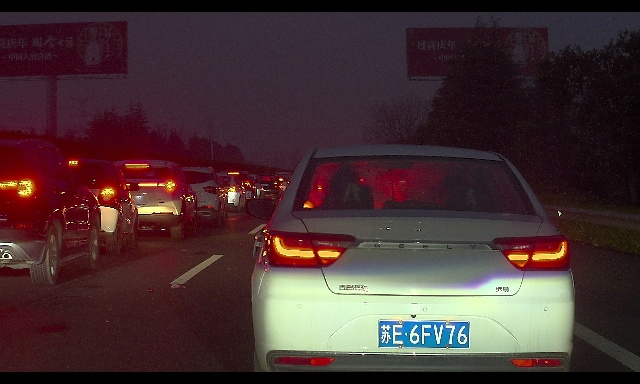car: (244, 143, 575, 372), (0, 139, 101, 286), (34, 158, 140, 255), (109, 160, 198, 241), (162, 167, 230, 227), (205, 174, 245, 213), (216, 170, 259, 202), (253, 174, 283, 200), (270, 174, 292, 193)
